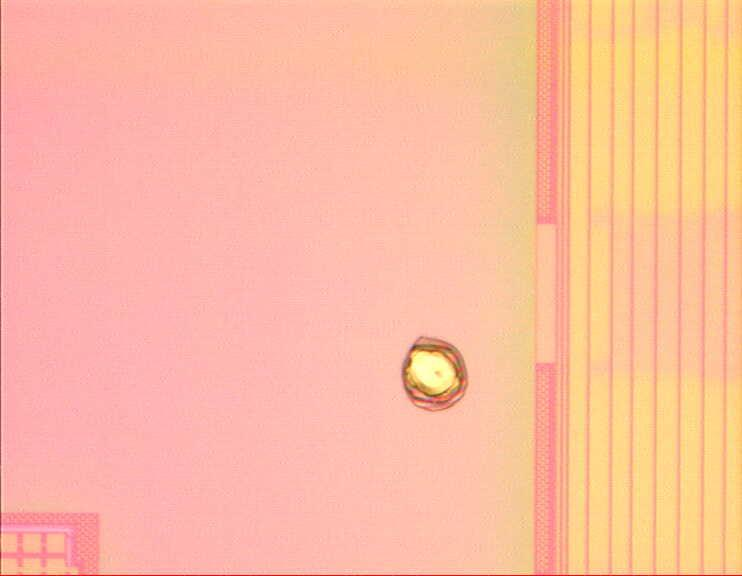BLOCK ETCH: (393, 332, 477, 416)
